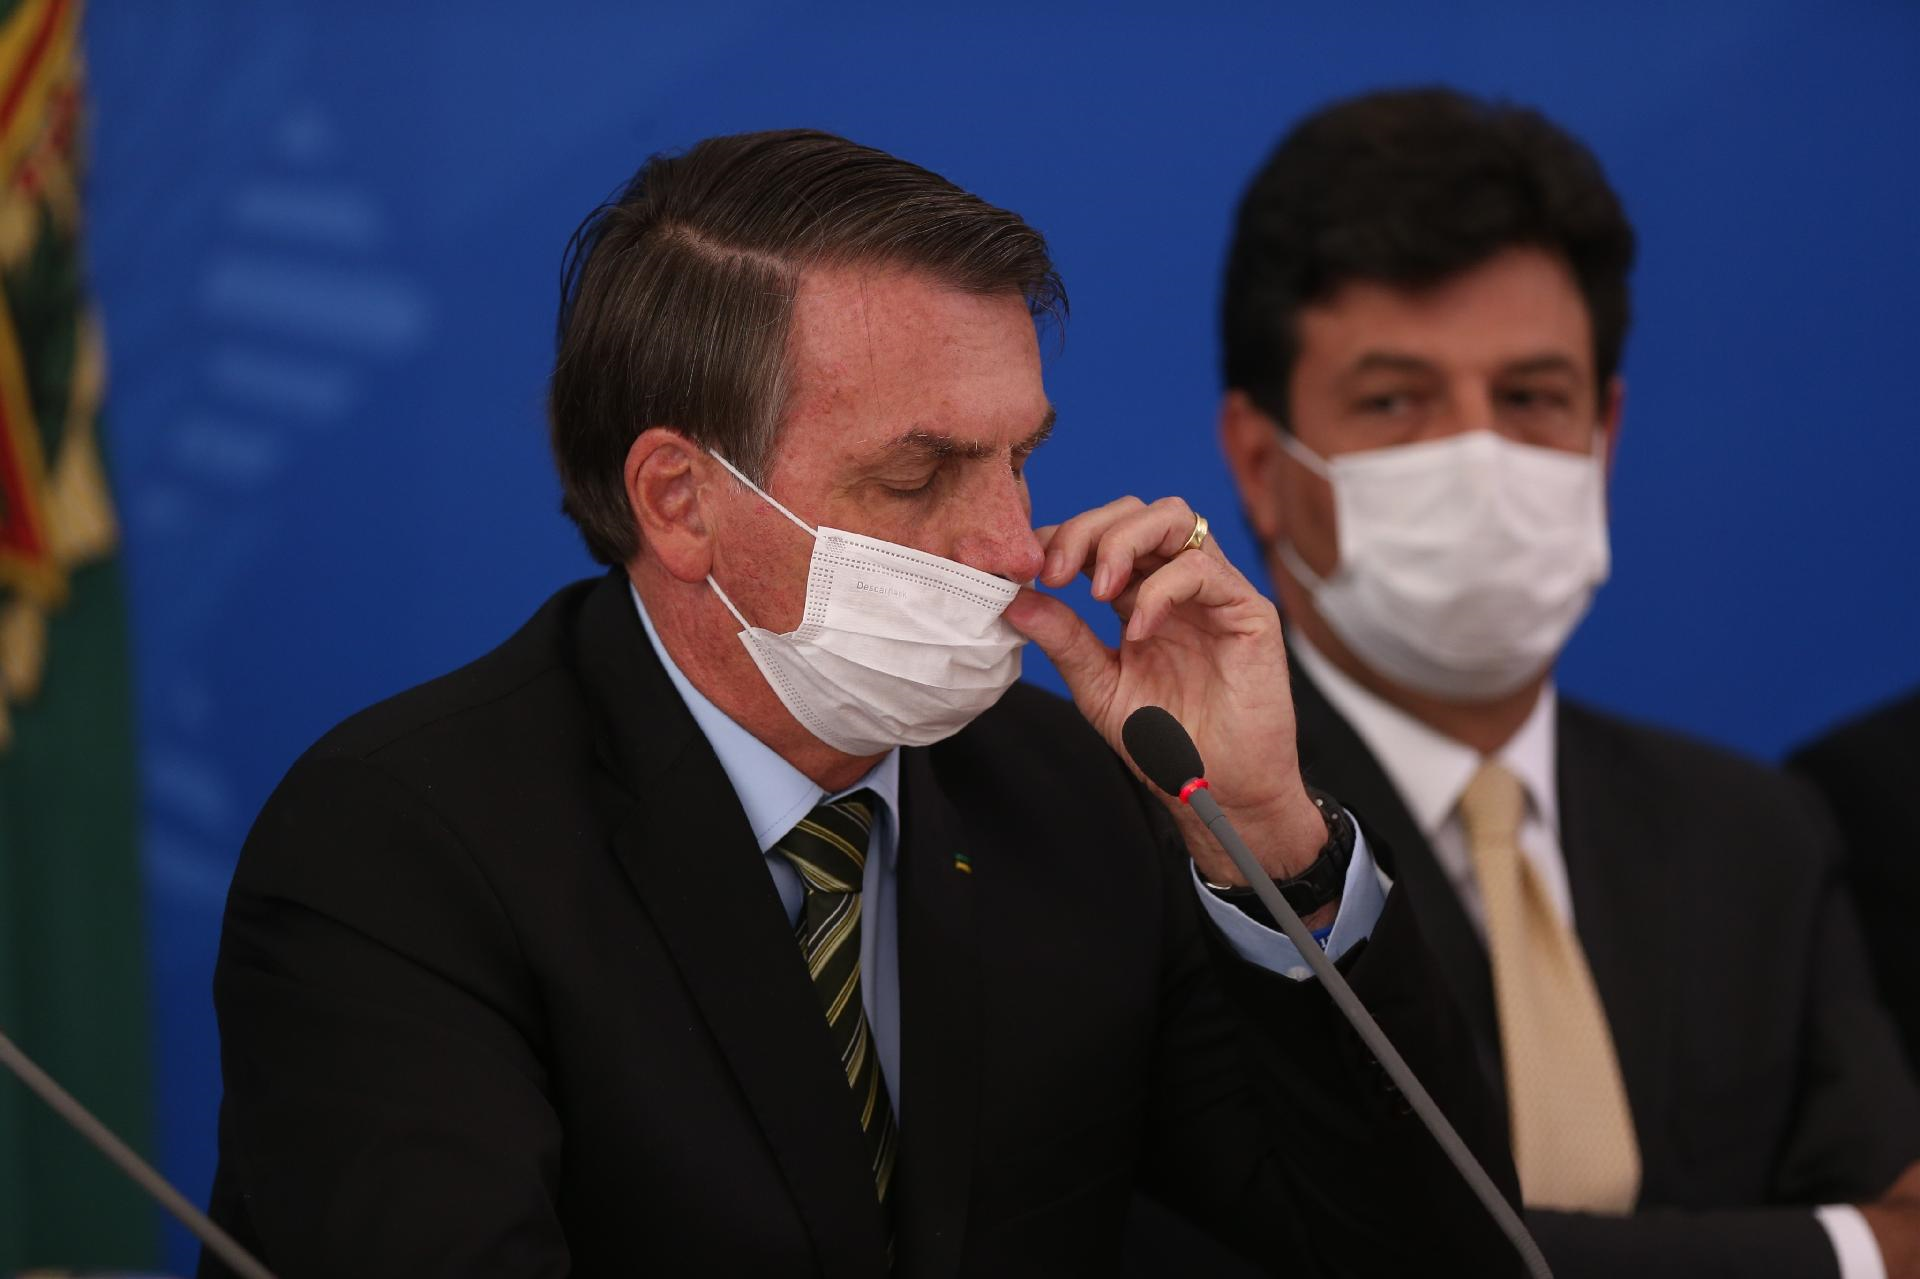mask_weared_incorrect: (625, 286, 1072, 783)
with_mask: (1217, 253, 1636, 707)
